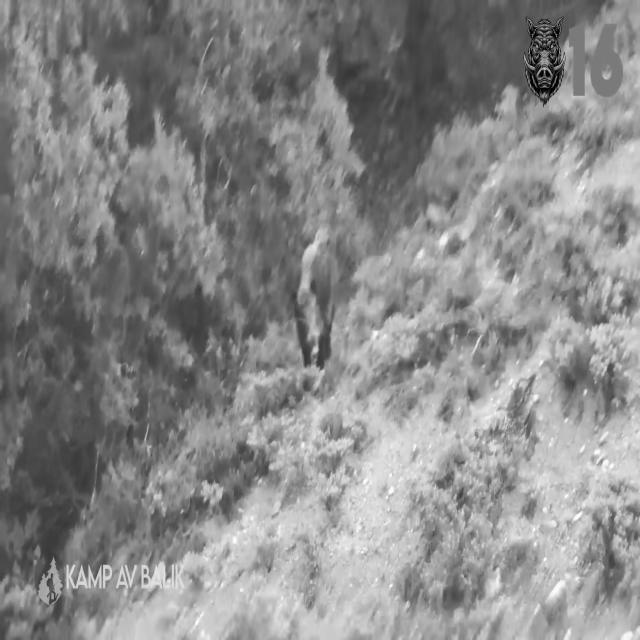boar: (295, 229, 337, 368), (525, 15, 566, 105)
